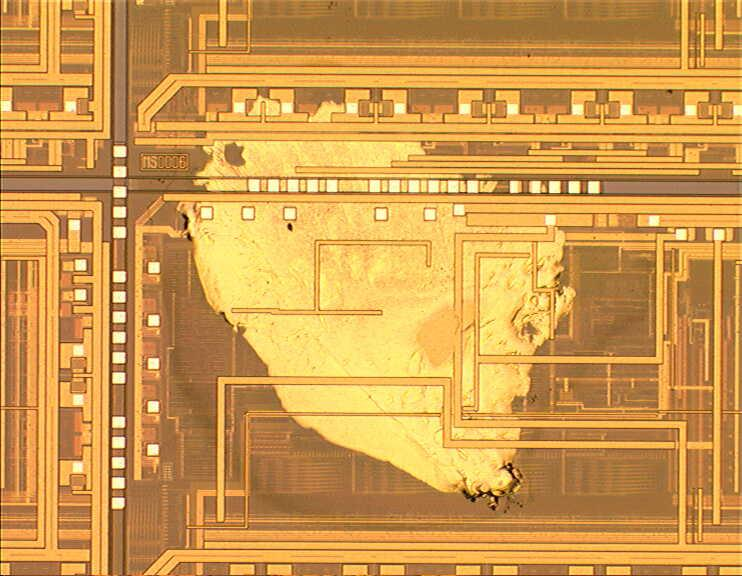BLOCK ETCH: (178, 89, 586, 515)
